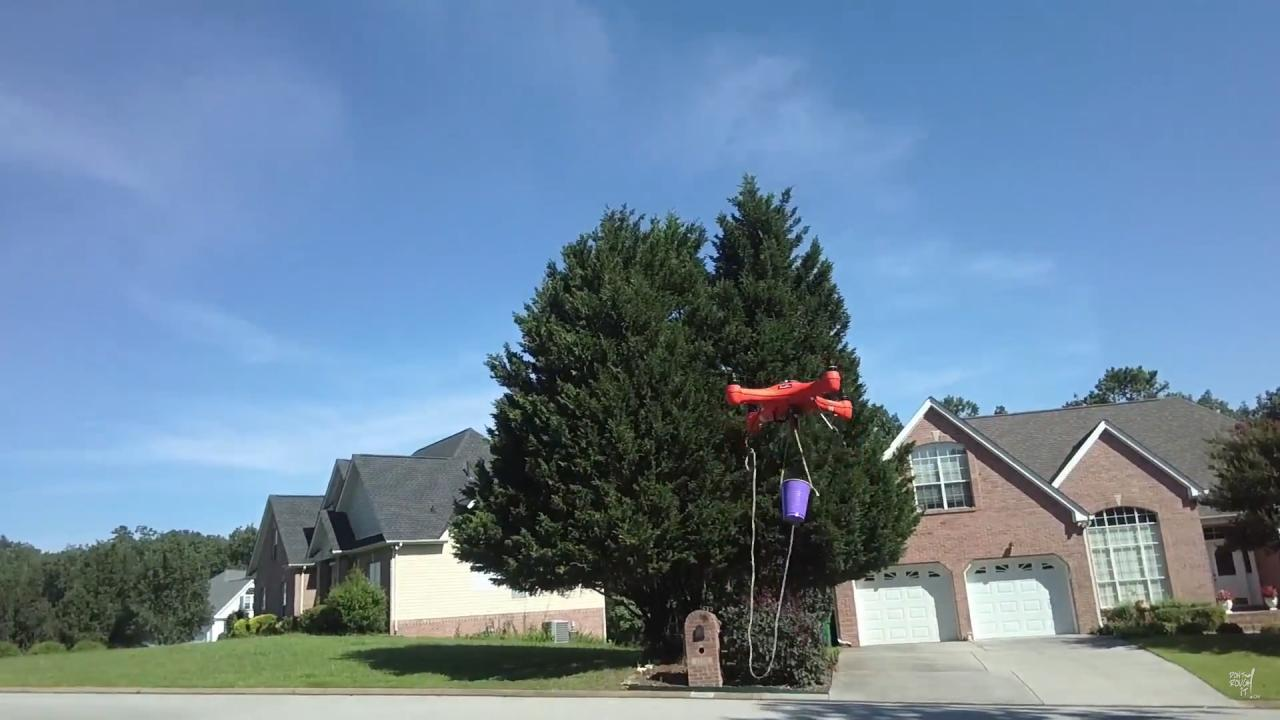Drone: (710, 353, 864, 447)
